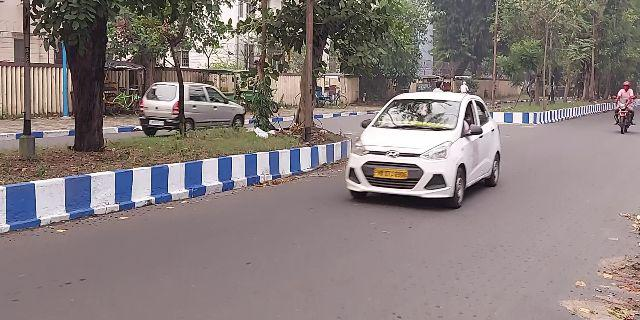Car: (345, 96, 507, 207), (141, 82, 245, 130)
Motorbike: (613, 79, 636, 135)
